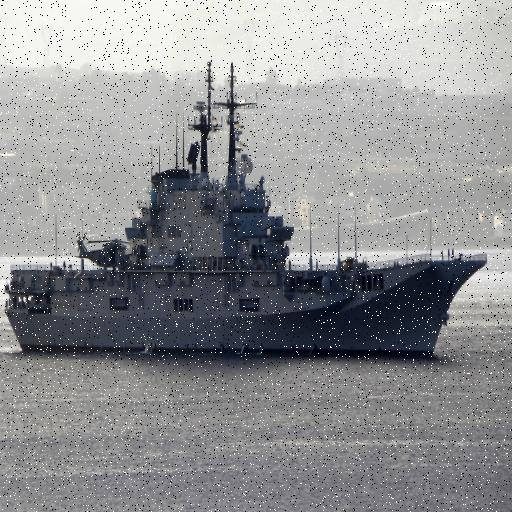Portanaves: (1, 57, 490, 362)
